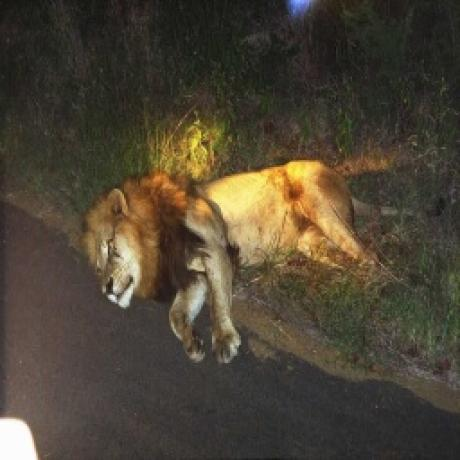Lion: (72, 153, 393, 369)
